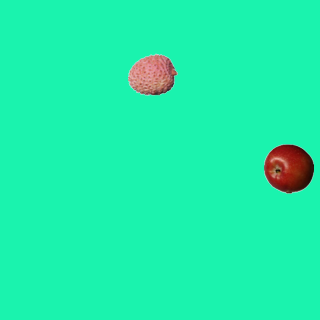Apple Braeburn: (263, 143, 313, 193)
Lychee: (127, 49, 177, 99)
